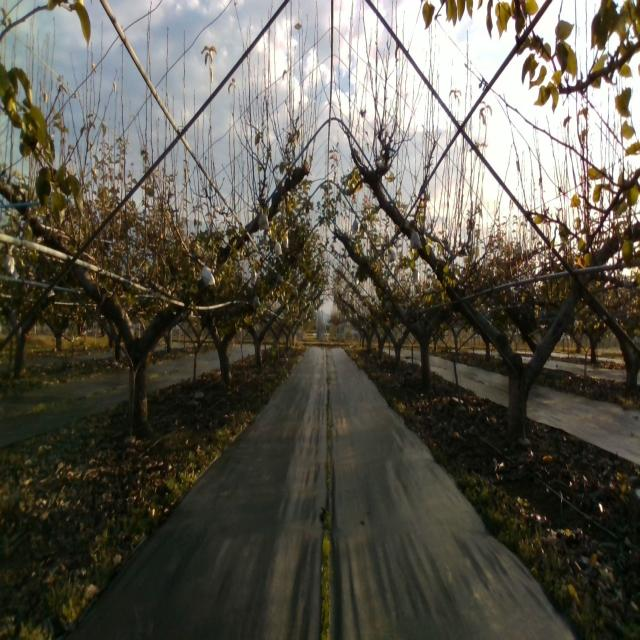pearbags: (202, 265, 216, 288), (258, 207, 270, 231), (410, 227, 422, 250)
